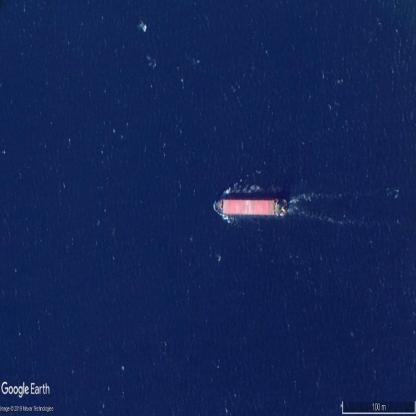ship: (214, 198, 287, 217)
